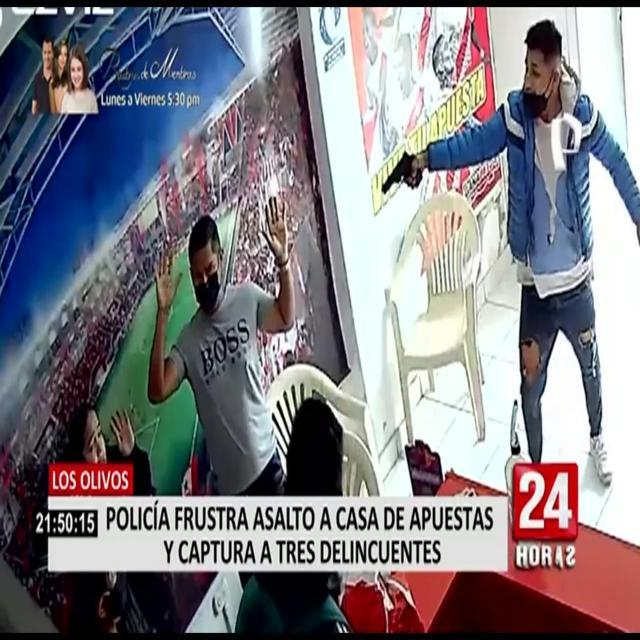weapon: (372, 126, 431, 212)
